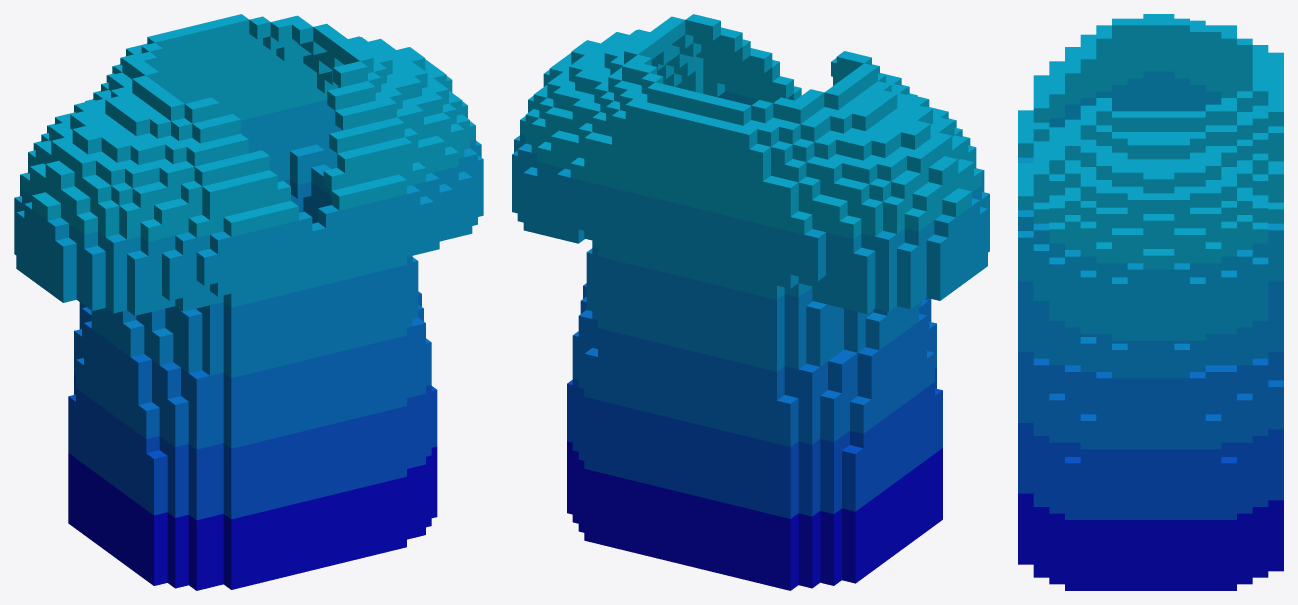
The picture shows the model from 3 angles, left to right: view 1: azimuth 30°, elevation 25°; view 2: azimuth 150°, elevation 25°; view 3: azimuth 270°, elevation 25°; orthographic projection.
Bounding box in the file's own units: 1.55 × 1.6 × 0.85.
